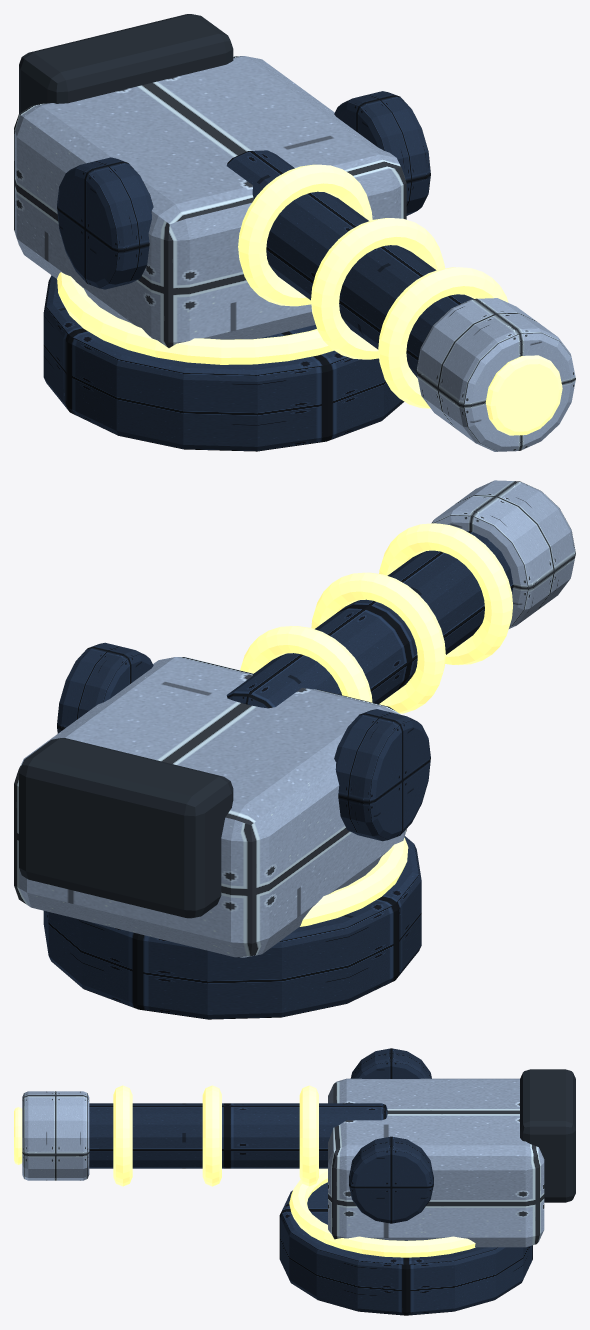
Rendered from relay_gun.glb.
3 views of the same model, one above another, from view 1: azimuth 30°, elevation 25°; view 2: azimuth 150°, elevation 25°; view 3: azimuth 270°, elevation 25° (orthographic). The views are drawn at different scales.
Visible parts, largest first — view 1: Surface_Ceramic_Armor, Surface_Brushed_Steel, Surface_relay_gun_Reactor.001, Surface_Brushed_Steel.001, Surface_Ceramic_Armor.001, Surface_Recess_Carbon, Surface_relay_gun_Reactor; view 2: Surface_Ceramic_Armor, Surface_Brushed_Steel, Surface_Recess_Carbon, Surface_relay_gun_Reactor.001, Surface_Brushed_Steel.001, Surface_Ceramic_Armor.001, Surface_relay_gun_Reactor; view 3: Surface_Ceramic_Armor, Surface_Brushed_Steel, Surface_Brushed_Steel.001, Surface_relay_gun_Reactor.001, Surface_Ceramic_Armor.001, Surface_Recess_Carbon, Surface_relay_gun_Reactor.
Part boxes in pixels (box(x1,y1,x2,y2)): Surface_Ceramic_Armor: box(14, 56, 406, 347); Surface_Brushed_Steel: box(43, 91, 430, 451); Surface_relay_gun_Reactor.001: box(238, 164, 562, 435); Surface_Brushed_Steel.001: box(226, 150, 473, 377); Surface_Ceramic_Armor.001: box(416, 298, 575, 451); Surface_Recess_Carbon: box(19, 14, 233, 113); Surface_relay_gun_Reactor: box(57, 272, 333, 364); Surface_Ceramic_Armor: box(14, 657, 406, 957); Surface_Brushed_Steel: box(43, 642, 430, 1019); Surface_Recess_Carbon: box(19, 738, 233, 918); Surface_relay_gun_Reactor.001: box(240, 523, 512, 713); Surface_Brushed_Steel.001: box(226, 531, 513, 708); Surface_Ceramic_Armor.001: box(431, 480, 575, 628); Surface_relay_gun_Reactor: box(300, 837, 408, 926); Surface_Ceramic_Armor: box(328, 1078, 544, 1247); Surface_Brushed_Steel: box(279, 1048, 532, 1315); Surface_Brushed_Steel.001: box(89, 1103, 387, 1168); Surface_relay_gun_Reactor.001: box(14, 1085, 318, 1186); Surface_Ceramic_Armor.001: box(22, 1091, 89, 1180); Surface_Recess_Carbon: box(520, 1069, 575, 1202); Surface_relay_gun_Reactor: box(289, 1168, 475, 1257).
Size of the model in its own units: 0.34 by 0.258 by 0.7535.
Materials: 4 (2 with a texture image).
